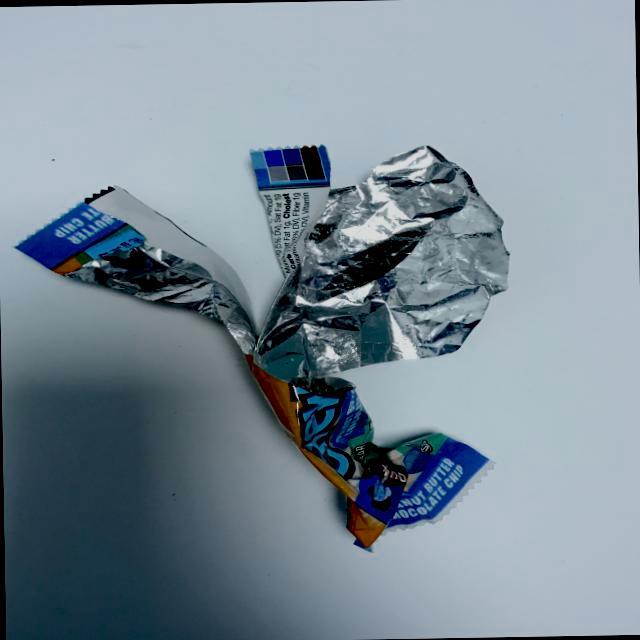plastic: (0, 86, 592, 568)
